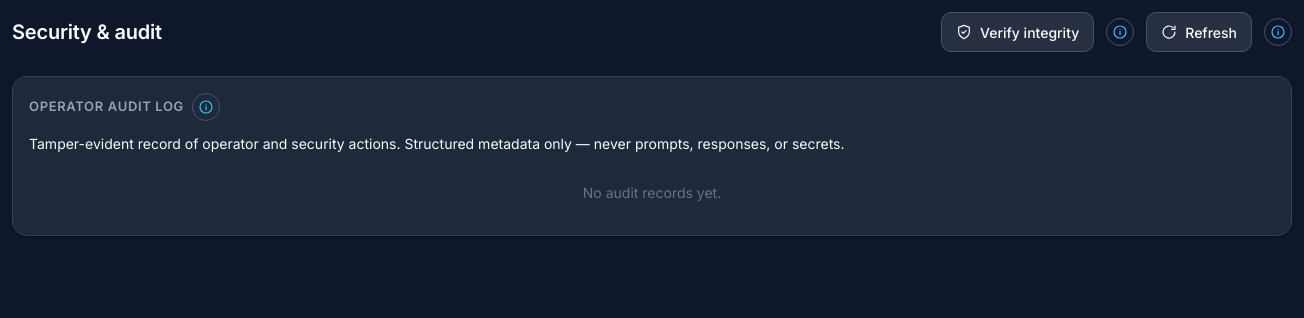
Test: Security view › verifies the hash chain on demand
expect the text "No audit records yet." is shown: met, box x1=583 y1=184 x2=721 y2=201
Click the button "Verify integrity" at [1018, 32], box x1=941 y1=12 x2=1094 y2=52
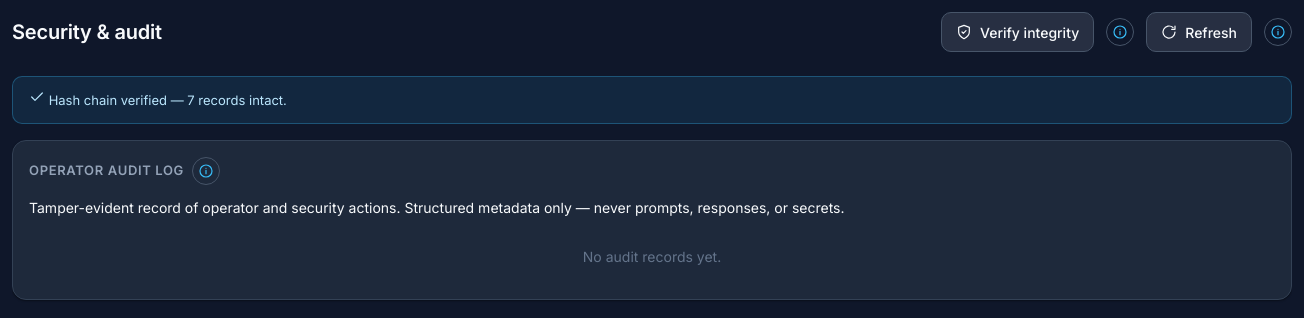
expect the text "Hash chain verified — 7 records intact." is shown: met, box x1=12 y1=76 x2=1292 y2=124
